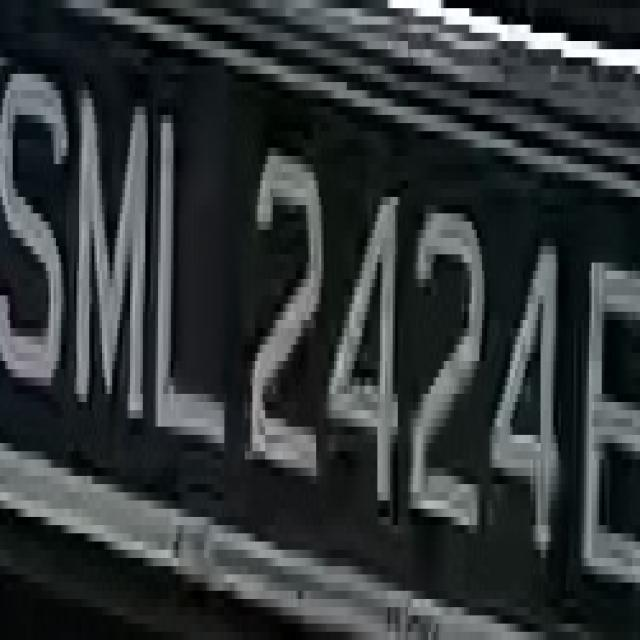2: (250, 90, 329, 509), (416, 164, 490, 566)
4: (324, 115, 403, 525), (494, 205, 568, 574)
L: (156, 99, 230, 484)
M: (69, 66, 150, 460)
S: (2, 25, 72, 443)
